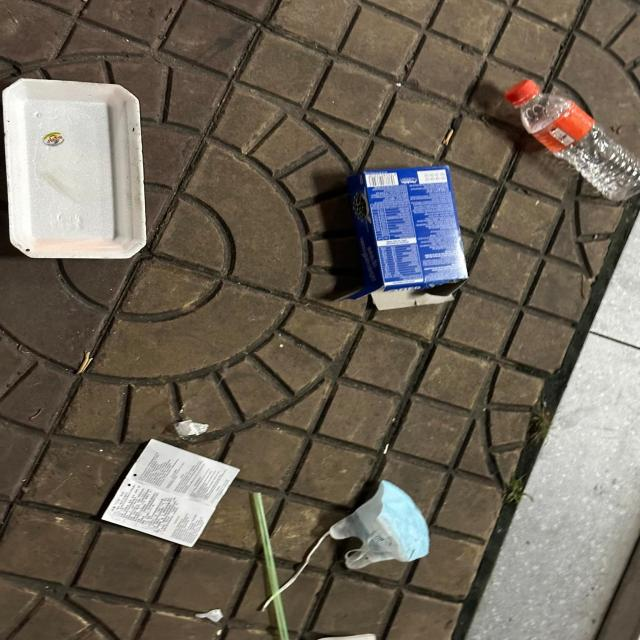bottle: (504, 78, 640, 201)
cardboard box: (348, 165, 469, 312)
drinking straw: (253, 490, 288, 640)
foam box: (0, 77, 147, 259)
mask: (326, 478, 432, 572)
paper: (100, 438, 242, 548)
